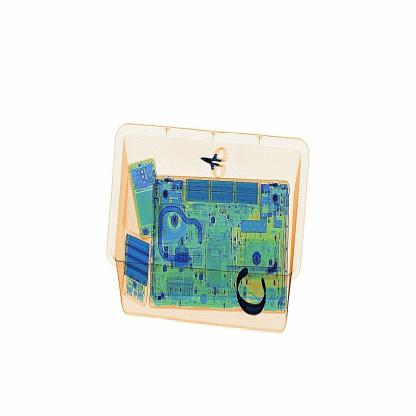gun: (195, 147, 235, 189)
